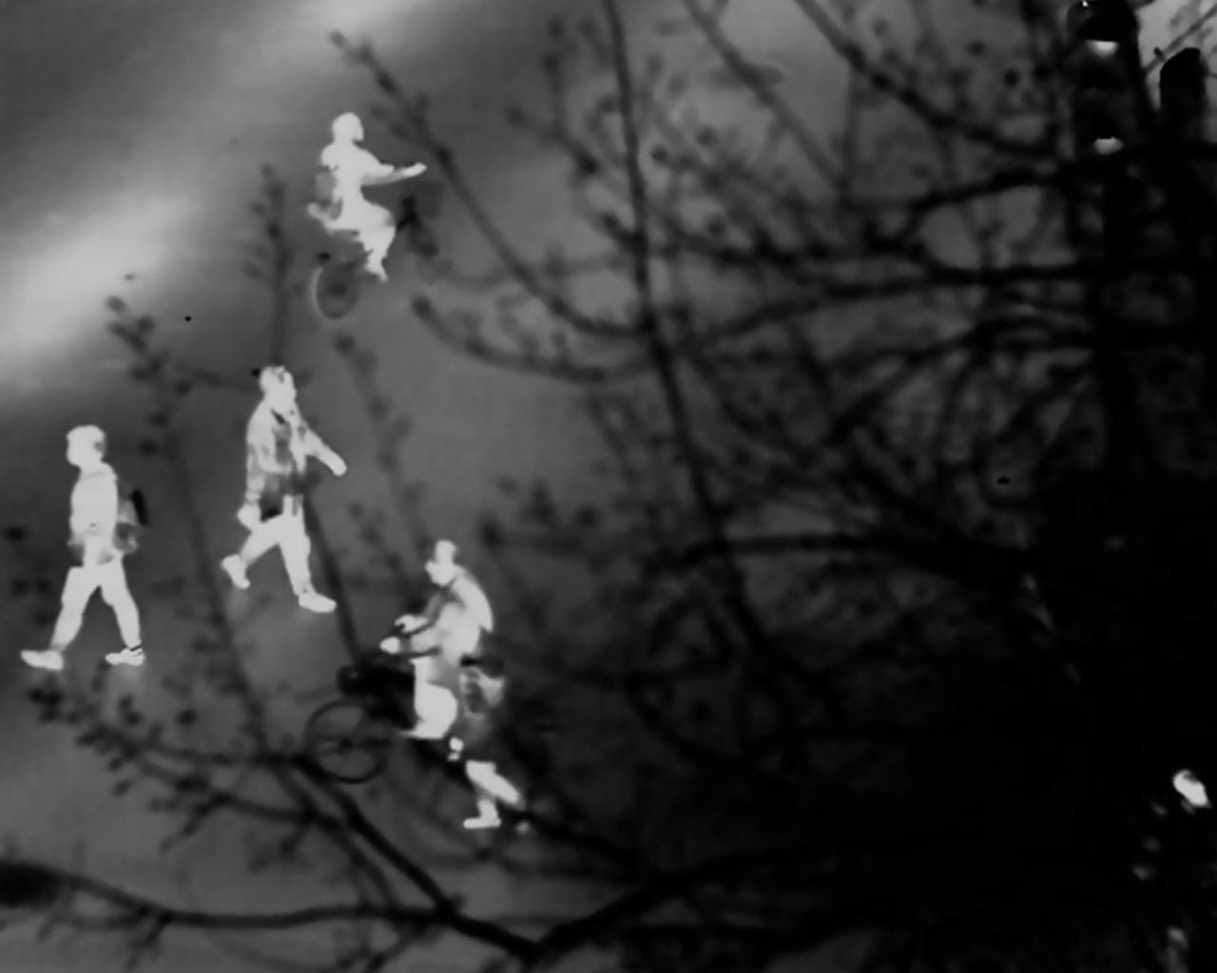person: (219, 357, 348, 602), (20, 424, 161, 648), (308, 122, 415, 327), (435, 608, 531, 828), (400, 540, 496, 734)
